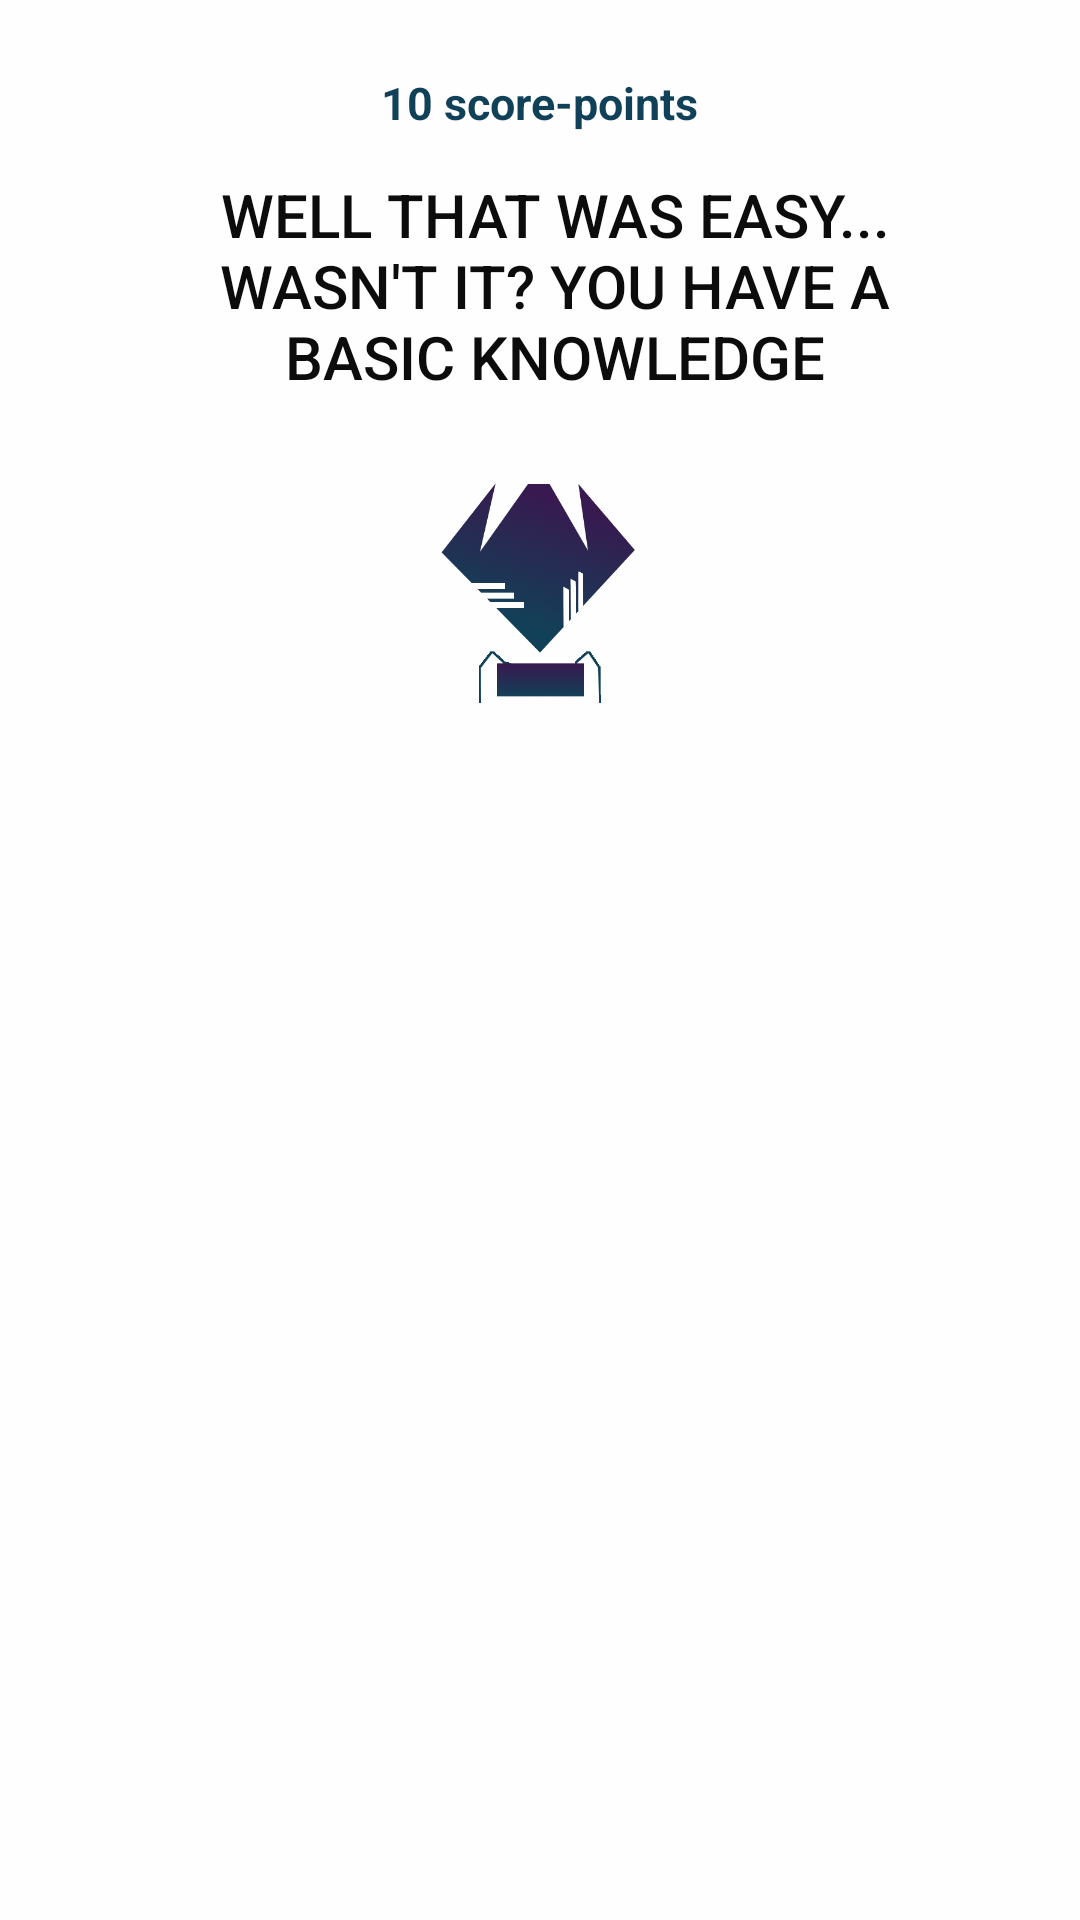

Icons on this 1080w x 1920h Android screen, each with the point to tap as (x=x, y=y):
trophy rem: (x=538, y=593)
